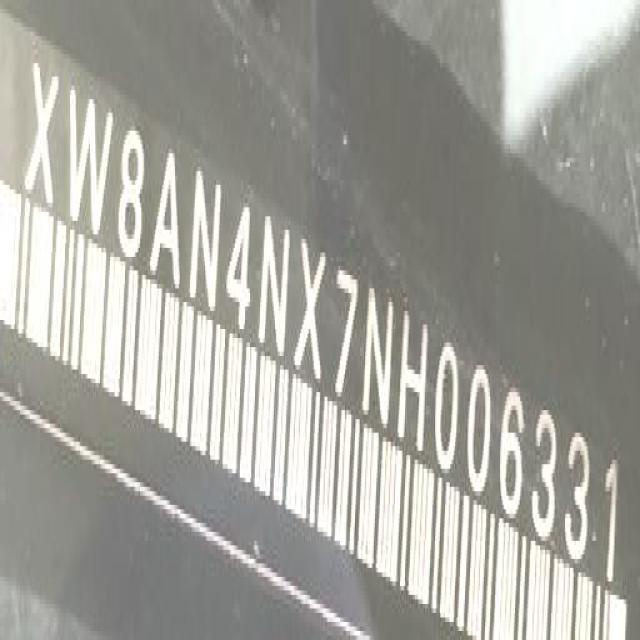0: (434, 342, 460, 471), (466, 362, 489, 496)
1: (599, 458, 622, 590)
3: (530, 407, 556, 536), (566, 426, 590, 561)
4: (227, 195, 252, 329)
6: (499, 389, 524, 522)
7: (334, 259, 358, 407)
8: (116, 122, 146, 264)
A: (150, 142, 183, 289)
H: (397, 310, 428, 450)
N: (190, 172, 222, 319), (362, 286, 393, 428), (258, 217, 290, 354)
W: (67, 90, 114, 242)
X: (25, 52, 61, 220), (294, 236, 326, 380)
